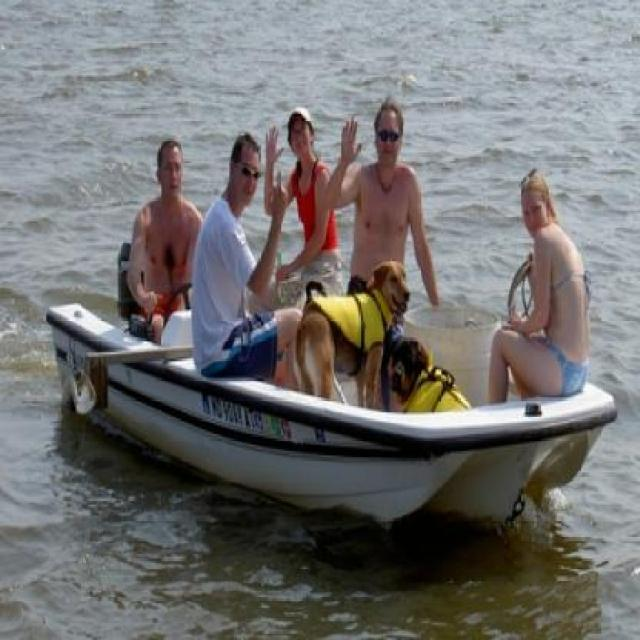ship: (42, 295, 616, 530)
